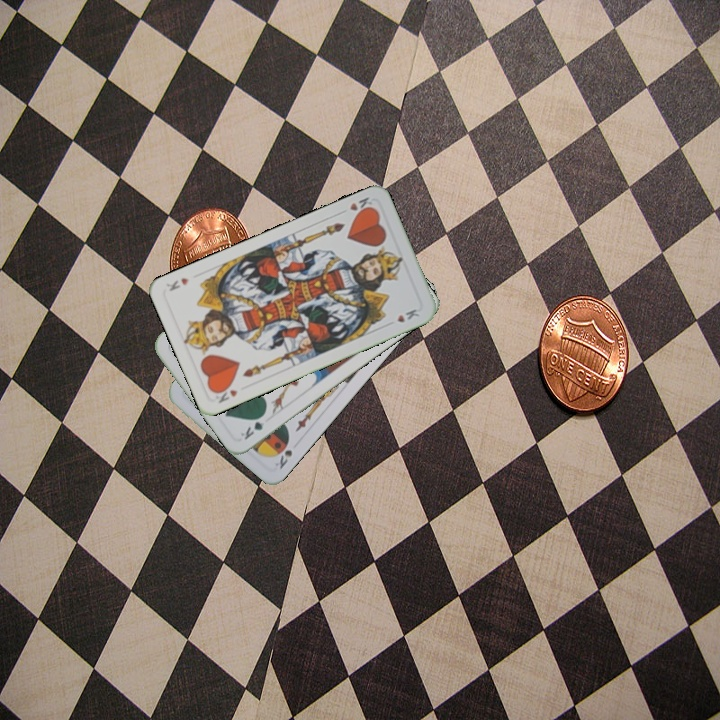GK: (236, 409, 268, 442)
HK: (210, 381, 240, 406), (345, 193, 375, 217)
SK: (270, 446, 295, 472)
